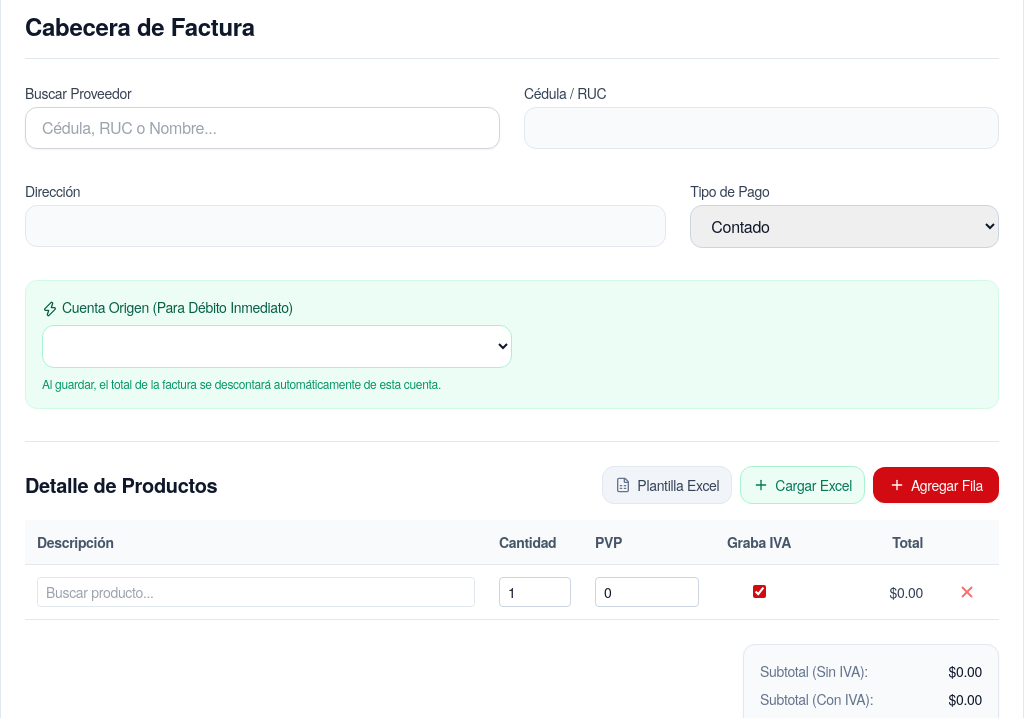
Scenario: FacturaForm DOM Mutations › actualiza los totales al cambiar cantidades y precios
The image size is (1024, 718).
Replace the text in the number field with test id "qty-0" with "2" at coordinates (535, 592), box [499,577,571,607]
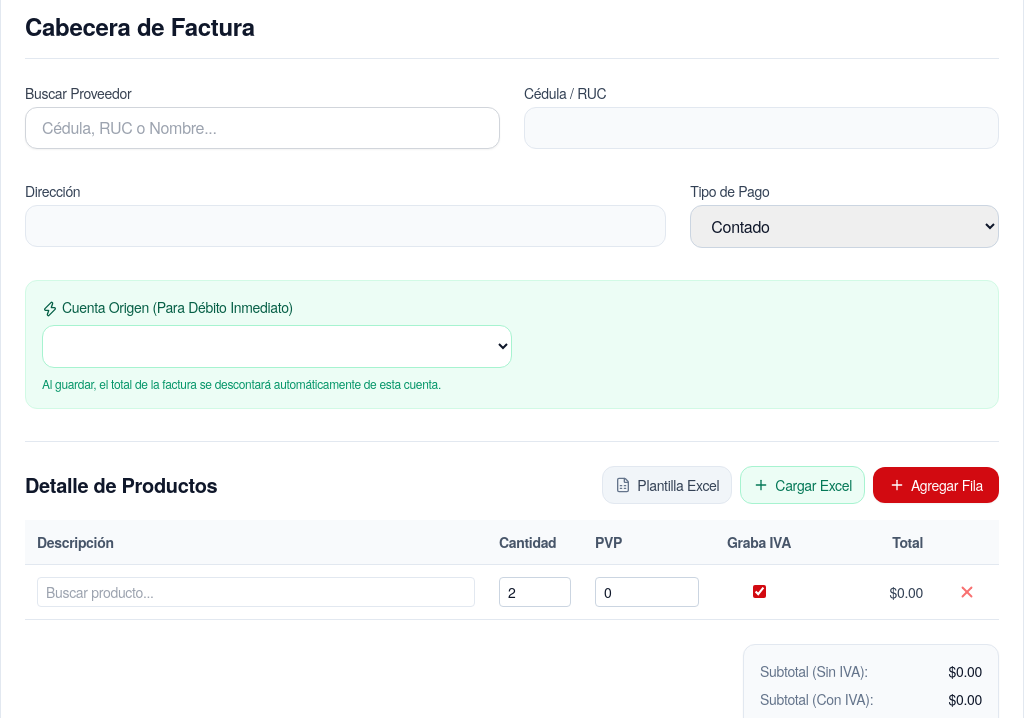
Replace the text in the number field with test id "pvp-0" with "50" at coordinates (647, 592), box [595,577,699,607]
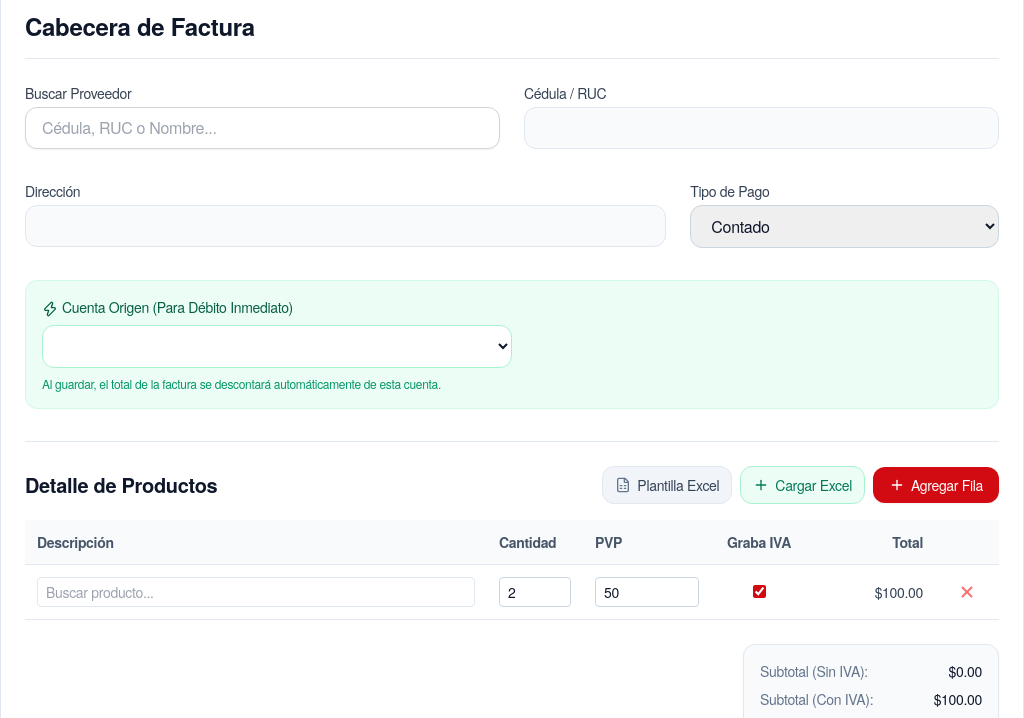
Expected: the text with test id "subtotal-con-iva" shows "100.00", [941,689,982,709]
Click the checkbox with test id "iva-0" at coordinates (759, 592), box [752,585,766,598]
(page scrolled)
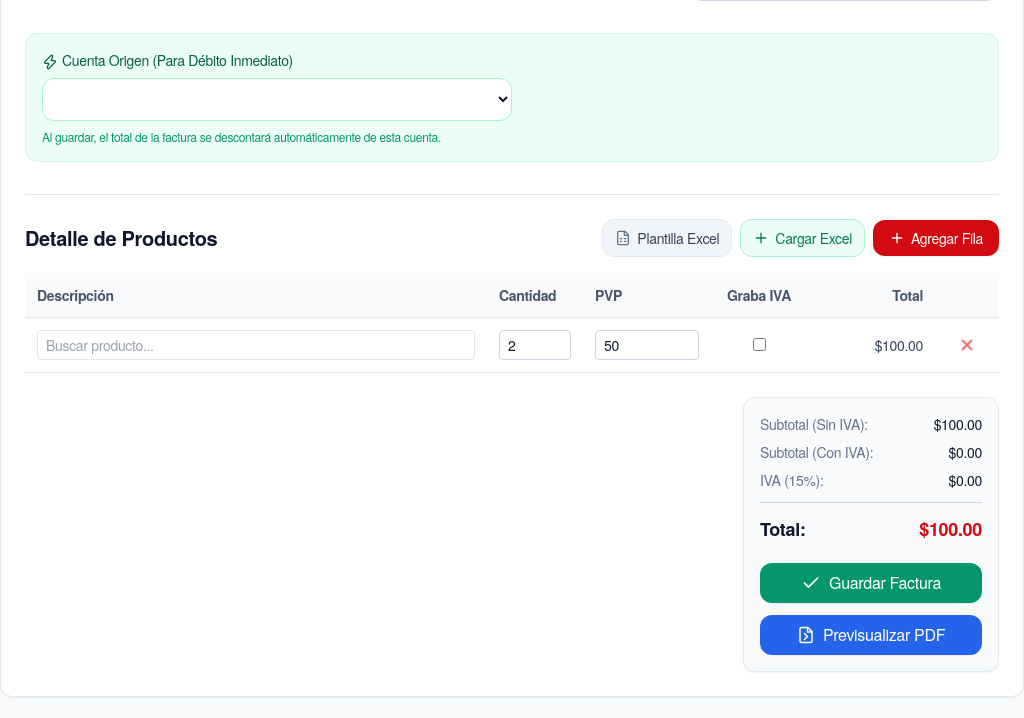
Expected: the text with test id "subtotal-sin-iva" shows "100.00", [941,414,982,434]
Expected: the text with test id "total-iva" shows "0.00", [956,470,982,490]
Expected: the text with test id "total-general" shows "100.00", [929,516,982,542]
